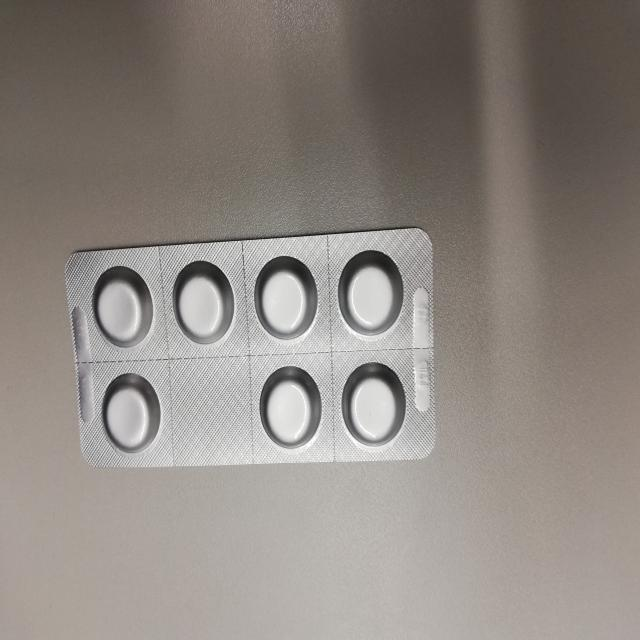Pill: (336, 252, 407, 342), (248, 258, 320, 342), (340, 358, 407, 448), (86, 264, 153, 349), (254, 368, 325, 448), (96, 372, 160, 459), (168, 264, 231, 351)
